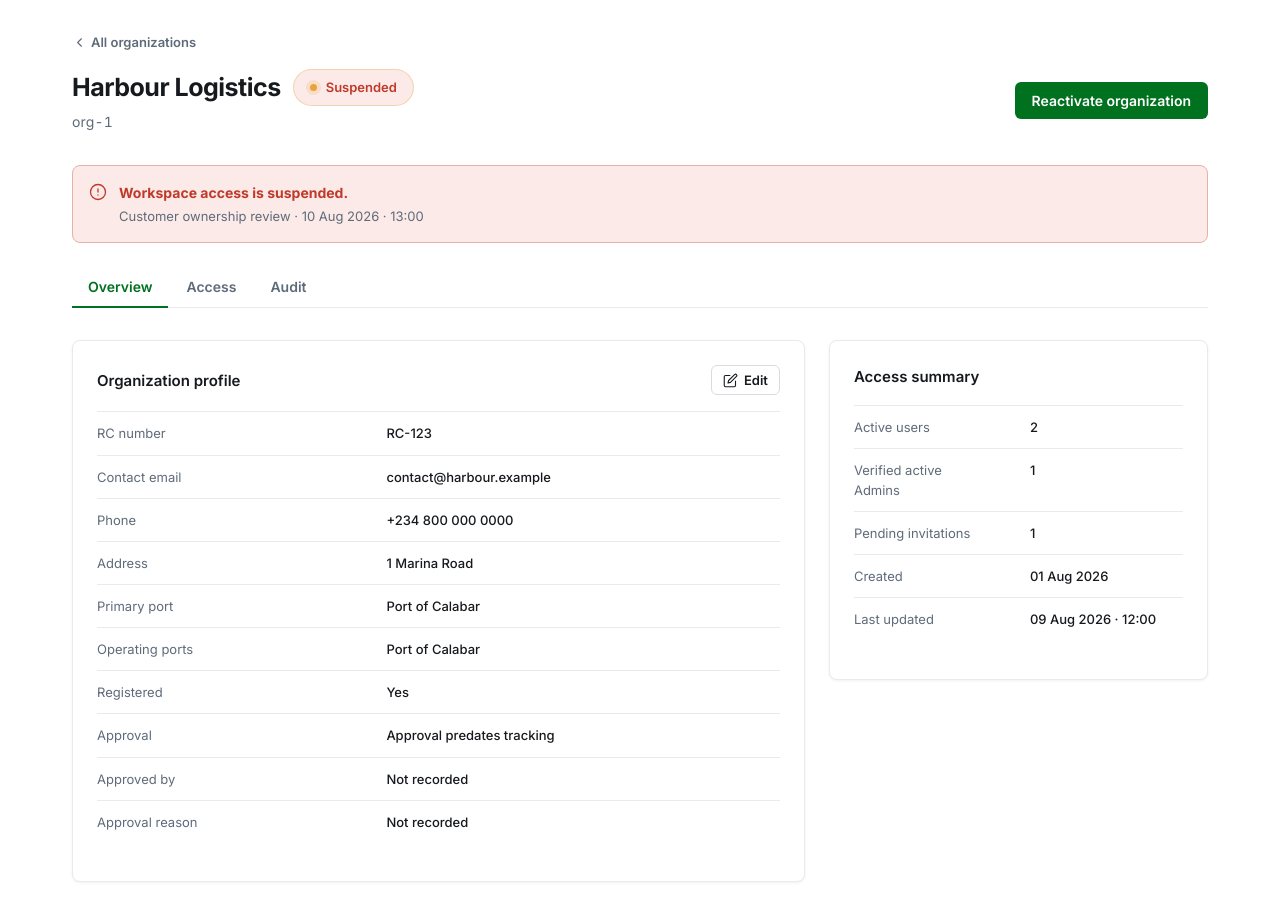
Test: System console screens › uses distinct reactivation semantics for a suspended organization
The width and height of the screenshot is (1280, 900).
Step 1. Click the button "Reactivate organization" → (1111, 100), box [1015,82,1208,119]
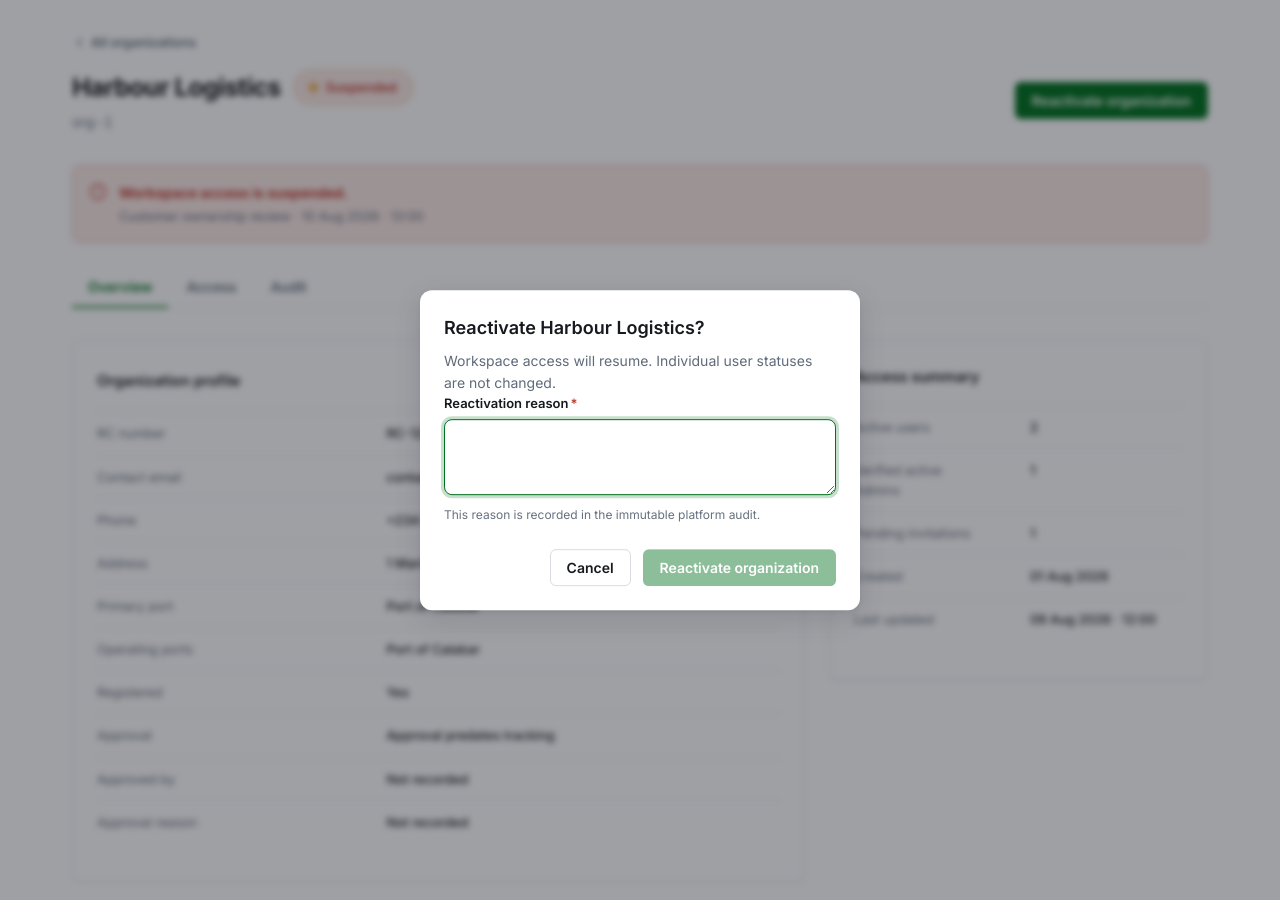
Result: the text "Workspace access will resume" is shown at [444,352,812,391]
Result: the text box labelled "Reactivation reason*" is shown at [444,420,836,496]
